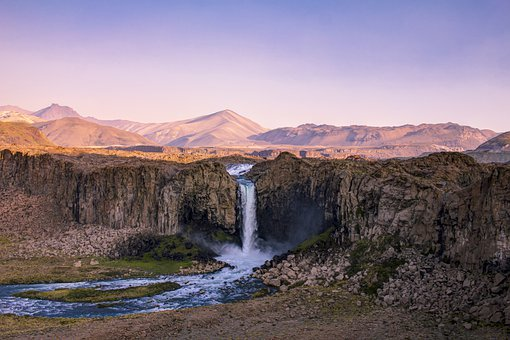mountain: (9, 105, 510, 335)
sky: (3, 5, 510, 115)
waterfall: (166, 141, 298, 300)
